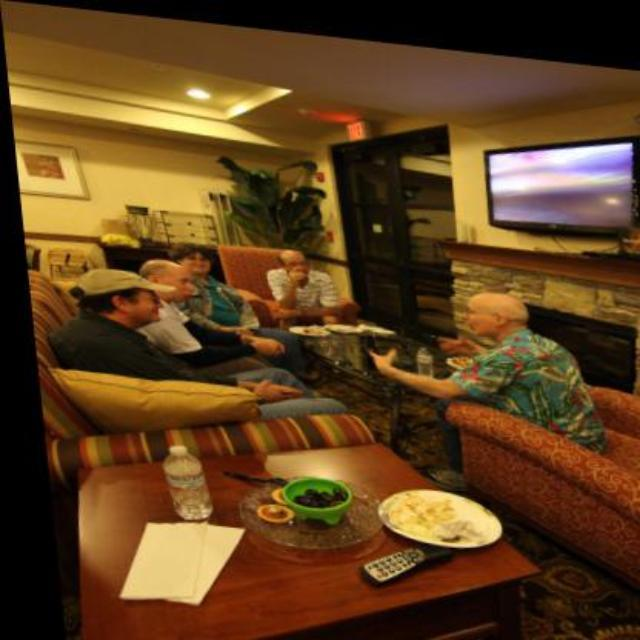Television: (485, 144, 640, 234)
